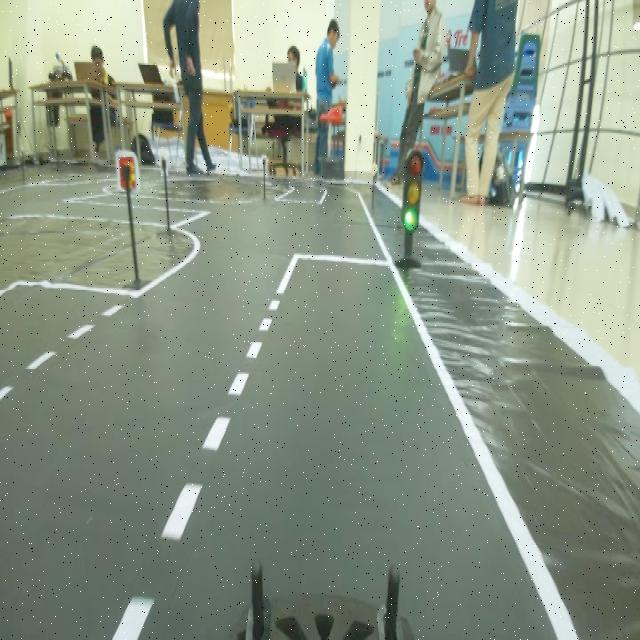trafficlight: (394, 137, 427, 280)
